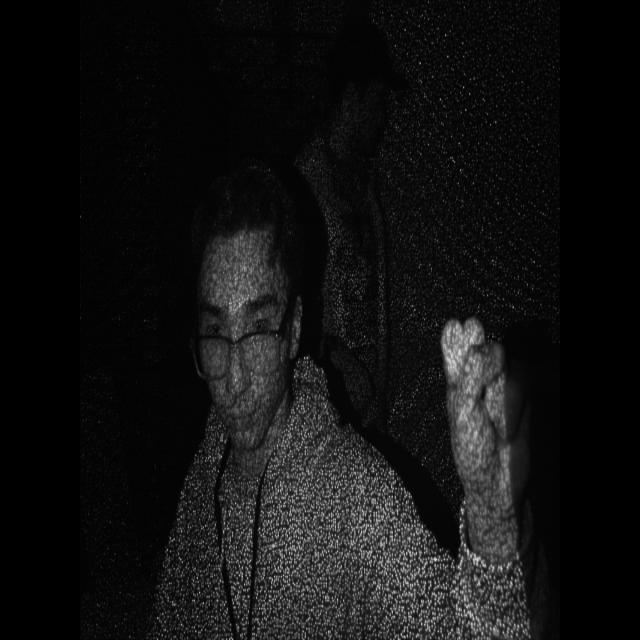S: (432, 306, 545, 522)
